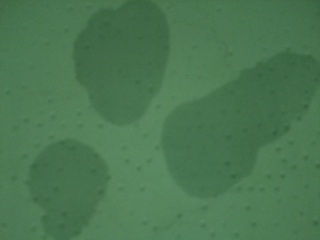Water_detected: (171, 82, 260, 181), (78, 20, 157, 104), (43, 151, 105, 216)
